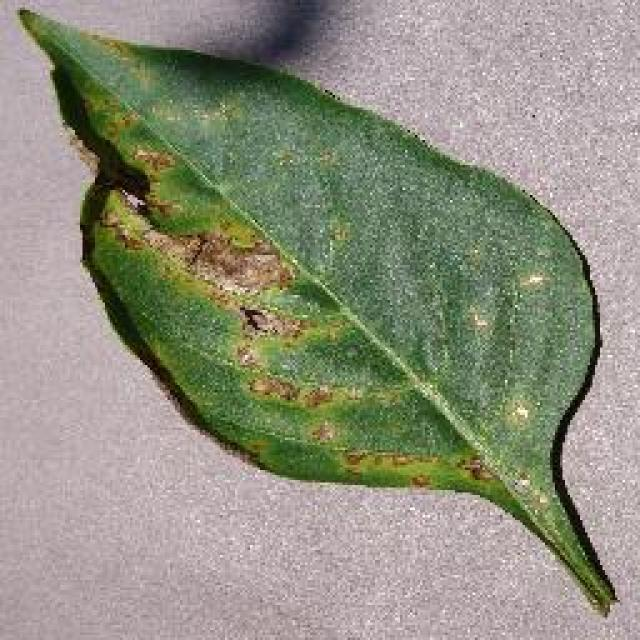Chilli_Bacterial_Spot: (12, 2, 622, 620), (87, 170, 505, 495), (172, 225, 292, 303), (335, 445, 443, 477), (233, 300, 305, 345), (245, 370, 300, 405), (497, 395, 535, 433), (235, 302, 273, 338), (458, 300, 492, 338), (455, 453, 495, 485), (512, 265, 552, 297), (297, 380, 335, 412), (335, 445, 367, 477), (403, 470, 435, 495)
